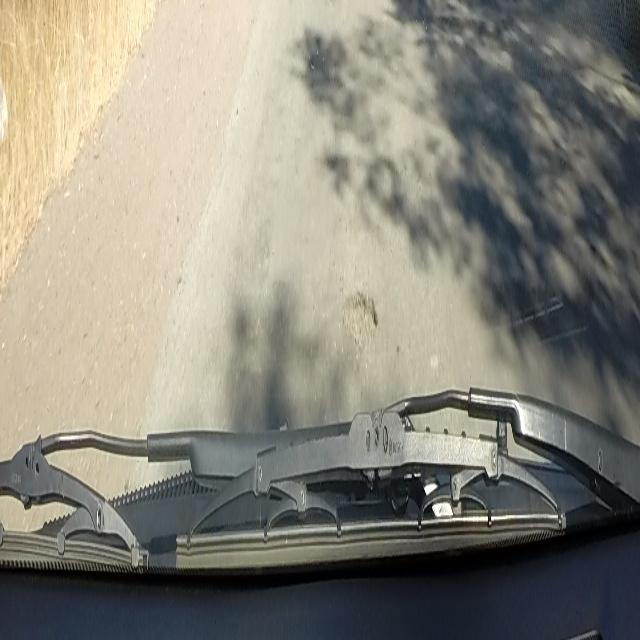pothole: (339, 282, 380, 355)
